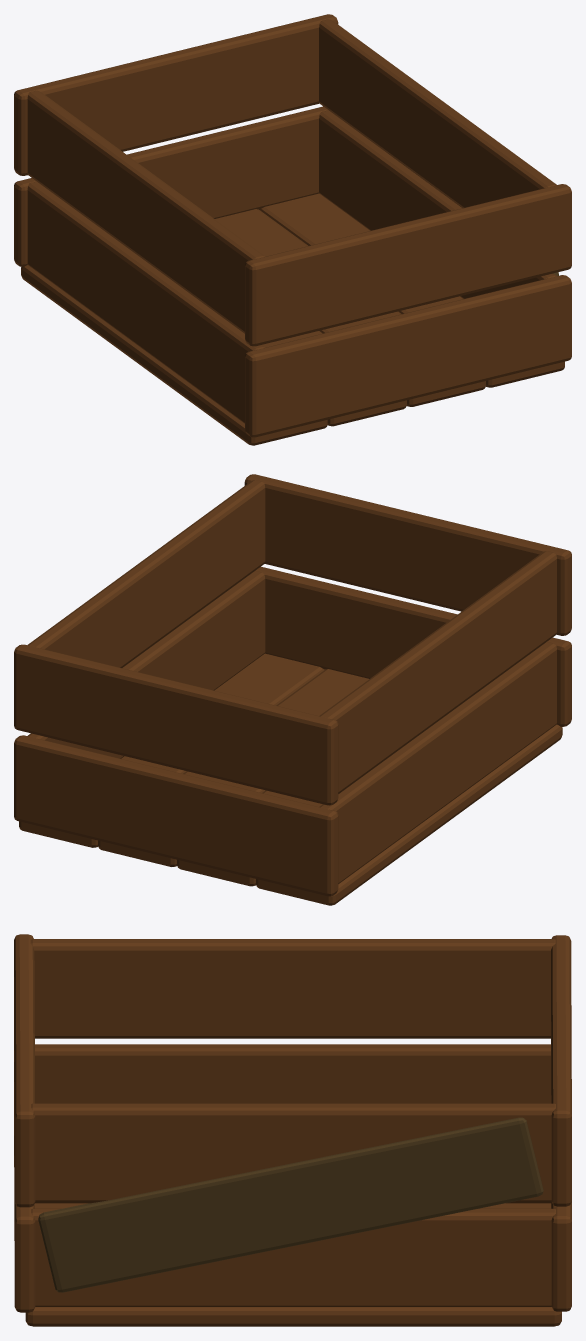
3 views of the same model, one above another, from view 1: azimuth 30°, elevation 25°; view 2: azimuth 150°, elevation 25°; view 3: azimuth 270°, elevation 25° (orthographic). The views are drawn at different scales.
Visible parts, largest first — view 1: Cube.042; view 2: Cube.042; view 3: Cube.042.
Boxes of the visible parts, x1,y1,x2,y2 form: Cube.042: (14, 14, 571, 445); Cube.042: (14, 474, 571, 905); Cube.042: (14, 934, 571, 1326).
Size of the model in its own units: 300 by 166 by 389.
